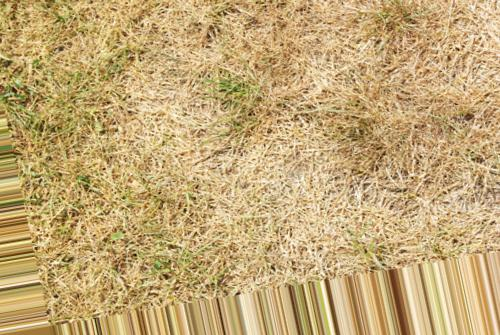patch: (29, 37, 416, 250)
